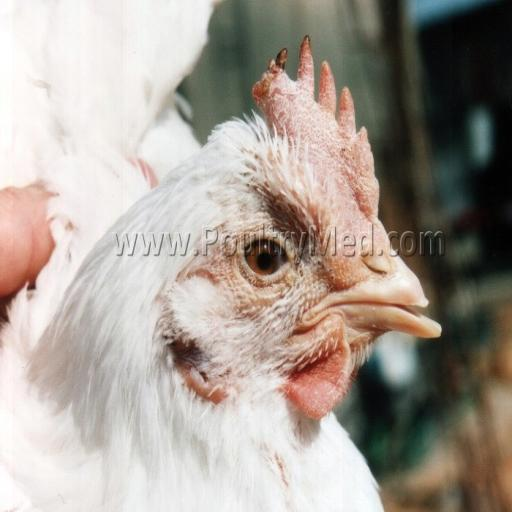disease: (207, 11, 406, 236)
